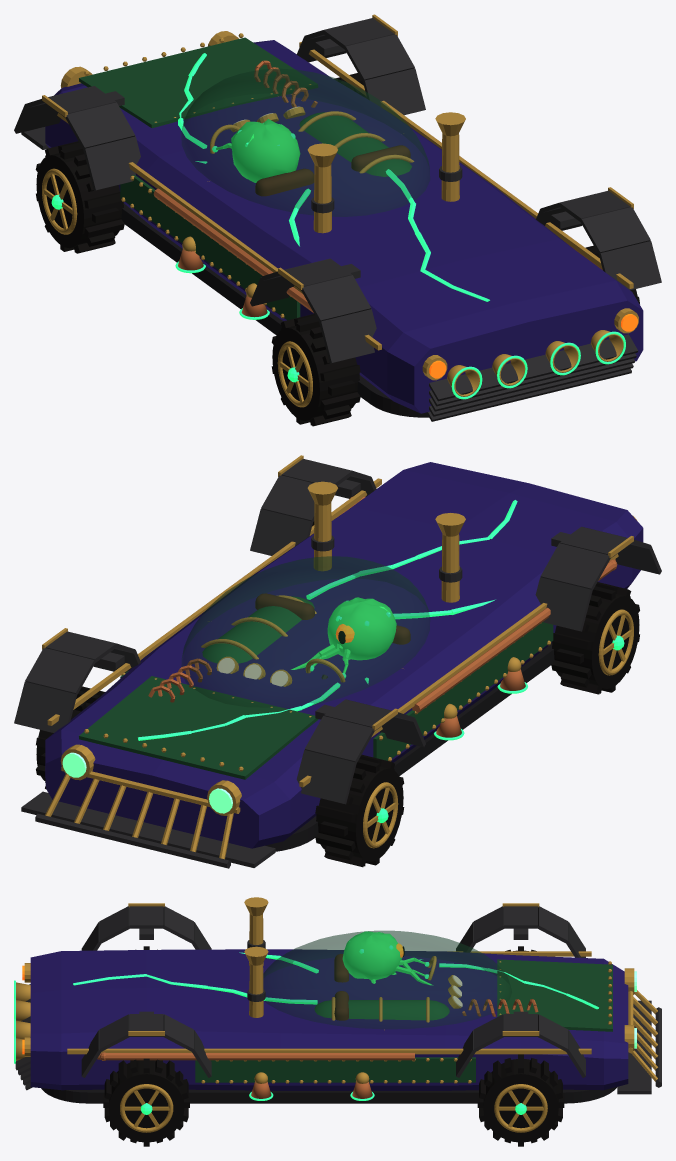
The model's file is car_bio.glb.
The picture shows the model from 3 angles, top to bottom: view 1: azimuth 30°, elevation 25°; view 2: azimuth 150°, elevation 25°; view 3: azimuth 270°, elevation 25°; orthographic projection. The views are drawn at different scales.
Visible parts, largest first — view 1: Shell, Canopy, ArmorHood, Wheel_RL, Wheel_FL, ArmorSide, Pilot, Chassis, Tank_Rocket, Louvre.004, Mudguard.014, BrassTrim.001 (+31 smaller); view 2: Shell, Canopy, ArmorHood, Wheel_FL, Wheel_RL, ArmorSide, Splitter, Tank_Rocket, Pilot, Chassis, Veins, Mudguard (+26 smaller); view 3: Shell, Canopy, ArmorHood, Wheel_FR, Wheel_RR, ArmorSide.001, Chassis, BrassTrim.001, Cone.020, Tank_Rocket, Pilot, Veins (+27 smaller).
Boxes of the visible parts, x1,y1,x2,y2 form: Shell: (45, 40, 643, 413); Canopy: (181, 68, 429, 216); ArmorHood: (79, 37, 318, 128); Wheel_RL: (271, 314, 360, 426); Wheel_FL: (35, 141, 124, 253); ArmorSide: (120, 174, 300, 320); Pilot: (231, 119, 300, 182); Chassis: (121, 203, 428, 417); Tank_Rocket: (298, 111, 414, 176); Louvre.004: (429, 334, 638, 401); Mudguard.014: (319, 309, 376, 363); BrassTrim.001: (299, 42, 633, 288); Shell: (45, 462, 643, 848); Canopy: (181, 556, 429, 708); ArmorHood: (79, 676, 318, 779); Wheel_FL: (315, 754, 404, 867); Wheel_RL: (551, 582, 639, 694); ArmorSide: (373, 622, 553, 760); Splitter: (21, 791, 275, 867); Tank_Rocket: (201, 595, 316, 663); Pilot: (327, 597, 396, 660); Chassis: (265, 643, 554, 851); Veins: (138, 500, 517, 740); Mudguard: (296, 750, 356, 804); Shell: (30, 949, 628, 1090); Canopy: (263, 930, 511, 1028); ArmorHood: (497, 959, 612, 1031); Wheel_FR: (477, 1054, 564, 1146); Wheel_RR: (103, 1058, 189, 1146); ArmorSide.001: (195, 1057, 475, 1082); Chassis: (41, 1087, 616, 1103); BrassTrim.001: (67, 1048, 591, 1054); Cone.020: (105, 1053, 414, 1060); Tank_Rocket: (314, 997, 449, 1022); Pilot: (342, 931, 402, 980); Veins: (73, 952, 598, 1009).
Size of what is drawn, in the model's own units: 2.52 by 1.44 by 5.31.
